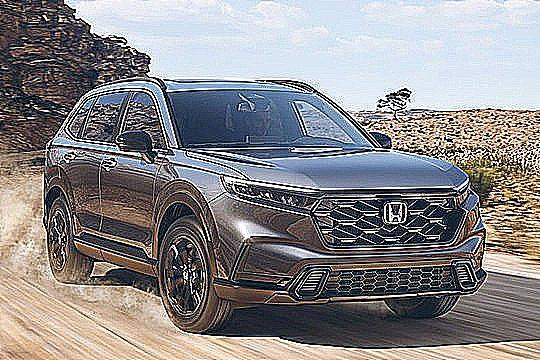Car hood: (190, 145, 473, 198)
Driver-s door - -F-R-: (94, 75, 174, 286)
Fender - -F-R-: (152, 148, 243, 244)
Front bumper: (198, 191, 483, 306)
Headlight - -L-: (458, 180, 478, 210)
Headlight - -R-: (220, 174, 320, 219)
Passenger-s door - -R-R-: (58, 75, 131, 266)
Side bumper - -R-: (67, 229, 157, 280)
Side mirror - -L-: (370, 127, 393, 154)
Side mirror - -R-: (115, 130, 164, 164)
